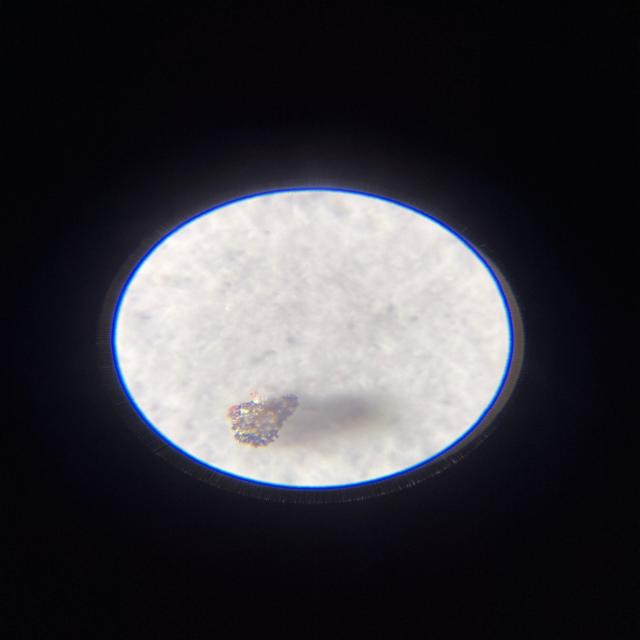microplastic_type_0: (228, 391, 299, 447)
